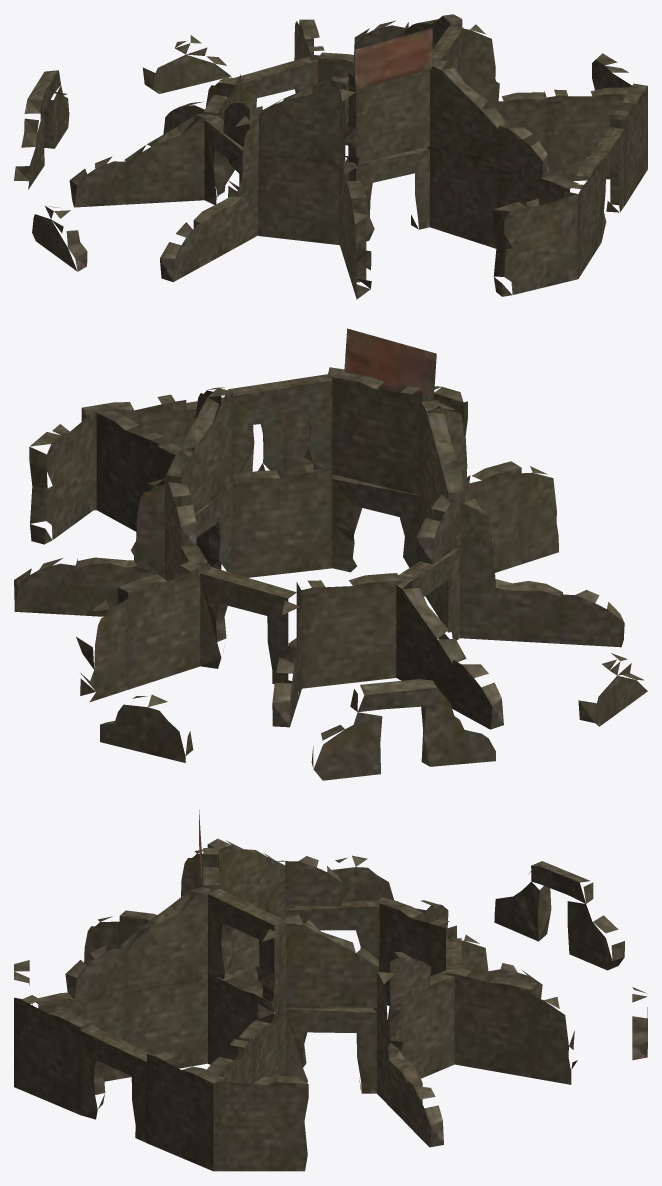
File: jungle_ruins_c-map.glb
3 views of the same model, one above another, from view 1: azimuth 30°, elevation 25°; view 2: azimuth 150°, elevation 25°; view 3: azimuth 270°, elevation 25° (orthographic). The views are drawn at different scales.
Parts seen in each view (by area): view 1: jungle_ruins_c_HLOD; view 2: jungle_ruins_c_HLOD; view 3: jungle_ruins_c_HLOD.
Part boxes in pixels (x1,y1,x2,y2): jungle_ruins_c_HLOD: (14, 14, 647, 299); jungle_ruins_c_HLOD: (14, 328, 647, 780); jungle_ruins_c_HLOD: (14, 810, 647, 1171).
Size of the model in its own units: 20.47 by 7.53 by 20.2.
1 material, 1 textured.
